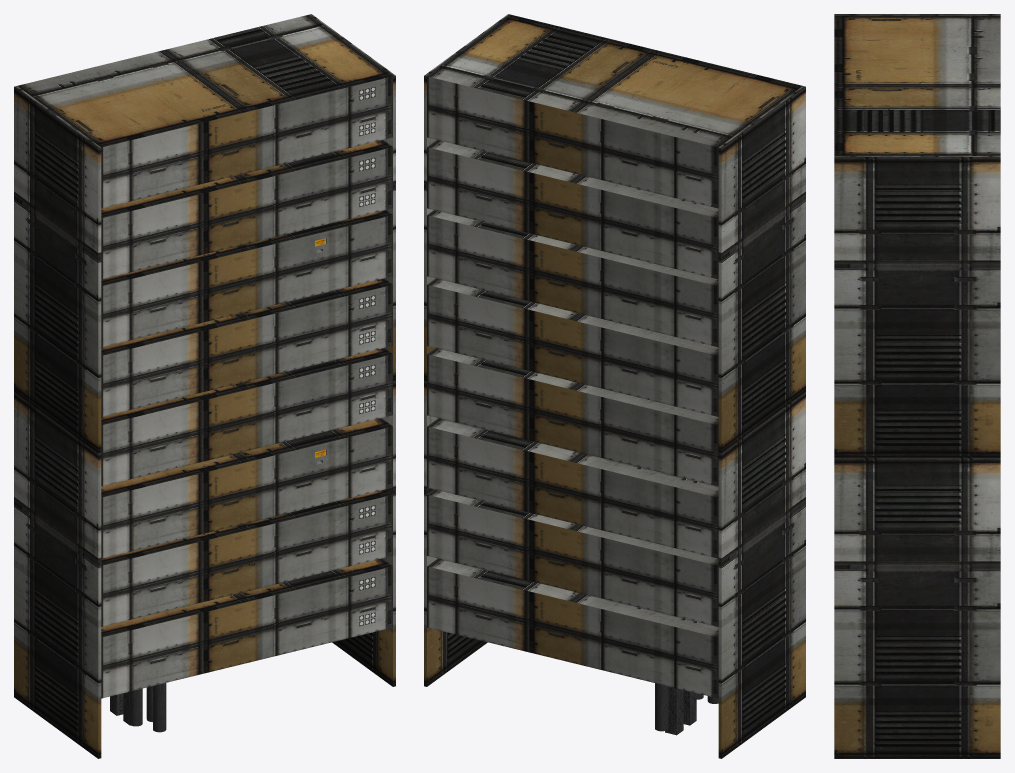
The model's file is Server.fbx.
3 renders of one model, left to right at view 1: azimuth 30°, elevation 25°; view 2: azimuth 150°, elevation 25°; view 3: azimuth 270°, elevation 25°, orthographic.
Parts seen in each view (by area): view 1: node_id62 (×2), node_id27, node_id32, node_id43, node_id22, node_id17, node_id54, node_id48, node_id38, node_id14; view 2: node_id62 (×3), node_id27, node_id32, node_id43, node_id22, node_id17, node_id54, node_id38, node_id48, node_id59; view 3: node_id62 (×2), node_id27.
Boxes of the visible parts, x1=… form: node_id62 (×2): x1=14, y1=14, x2=395, y2=758; node_id27: x1=17, y1=14, x2=392, y2=208; node_id32: x1=101, y1=418, x2=392, y2=558; node_id43: x1=101, y1=558, x2=392, y2=698; node_id22: x1=101, y1=140, x2=392, y2=279; node_id17: x1=101, y1=278, x2=392, y2=416; node_id54: x1=101, y1=348, x2=392, y2=486; node_id48: x1=101, y1=210, x2=392, y2=347; node_id38: x1=101, y1=489, x2=392, y2=626; node_id14: x1=153, y1=683, x2=166, y2=732; node_id62 (×3): x1=424, y1=14, x2=805, y2=758; node_id27: x1=427, y1=14, x2=802, y2=208; node_id32: x1=427, y1=418, x2=718, y2=558; node_id43: x1=427, y1=558, x2=718, y2=698; node_id22: x1=427, y1=140, x2=718, y2=279; node_id17: x1=427, y1=278, x2=718, y2=416; node_id54: x1=427, y1=348, x2=718, y2=486; node_id38: x1=427, y1=489, x2=718, y2=626; node_id48: x1=427, y1=210, x2=718, y2=347; node_id59: x1=655, y1=683, x2=668, y2=731; node_id62 (×2): x1=834, y1=14, x2=1000, y2=758; node_id27: x1=834, y1=15, x2=1000, y2=155.
Size of the model in its own units: 0.256 by 0.512 by 0.1255.
Materials: 46 (42 with a texture image).
